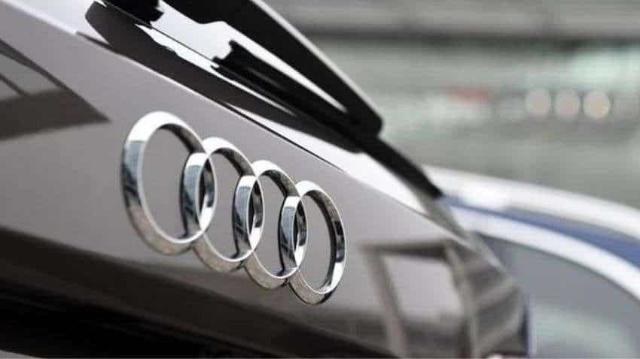audi: (2, 0, 530, 359)
